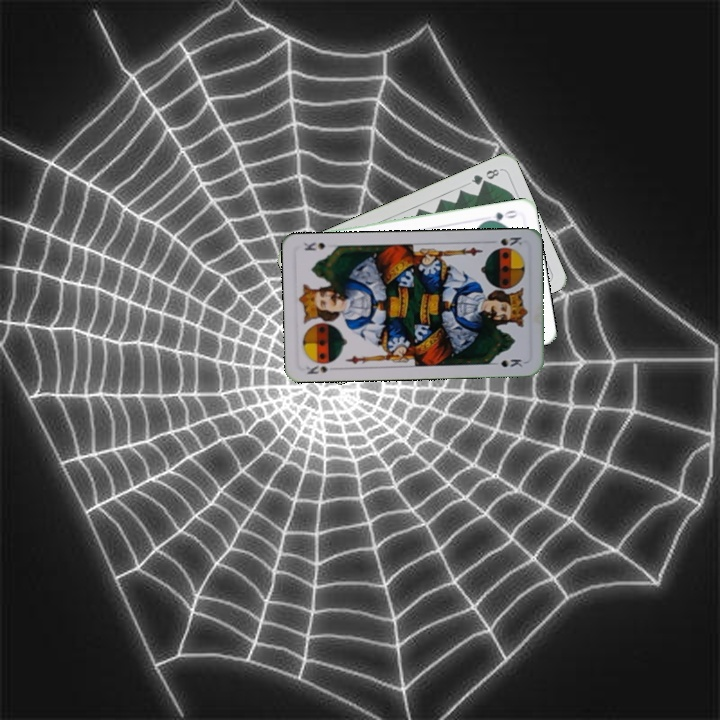G8: (467, 165, 502, 188)
GO: (481, 206, 520, 225)
SK: (302, 361, 340, 377), (496, 233, 525, 248)
